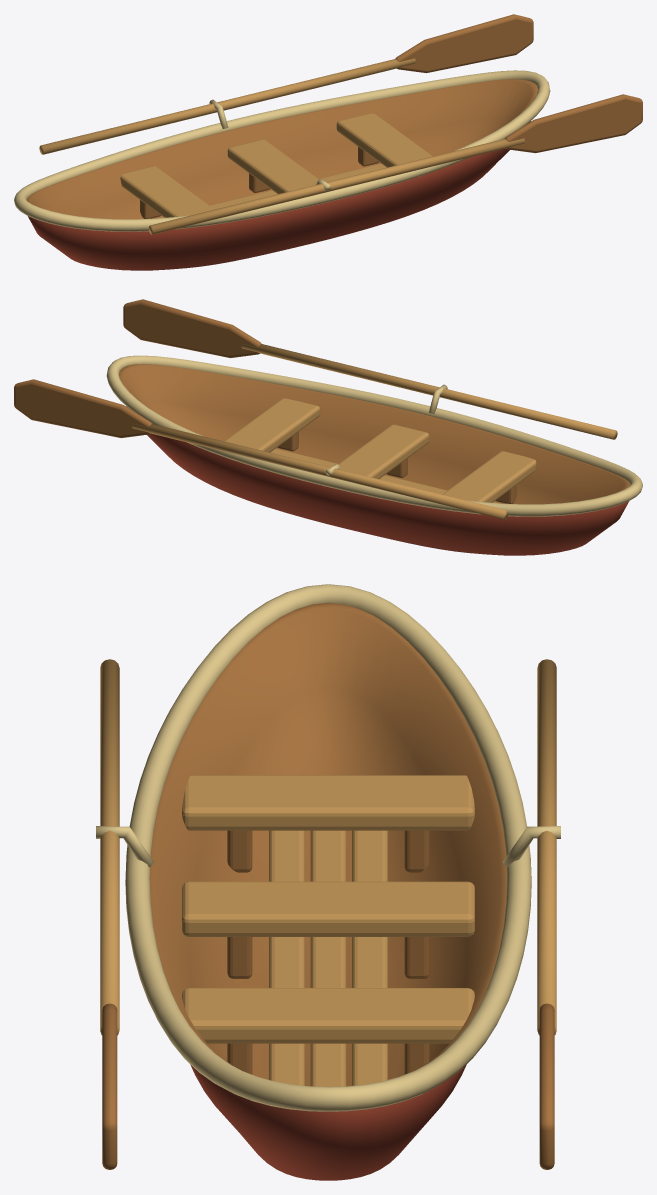
Rendered from coastal_rowboat.glb.
The picture shows the model from 3 angles, top to bottom: view 1: azimuth 30°, elevation 25°; view 2: azimuth 150°, elevation 25°; view 3: azimuth 270°, elevation 25°; orthographic projection. The views are drawn at different scales.
Parts seen in each view (by area): view 1: HollowHull, Gunwale, Blade_Near, Blade_Far, Shaft_Near, Shaft_Far, Bench_2, Bench_1, Bench_0, FloorSlat_2; view 2: HollowHull, Gunwale, Blade_Far, Blade_Near, Shaft_Far, Shaft_Near, Bench_2, Bench_1, Bench_0, FloorSlat_0; view 3: HollowHull, Gunwale, Bench_1, Bench_0, Bench_2, Shaft_Far, Shaft_Near, FloorSlat_1, FloorSlat_0, FloorSlat_2, Blade_Far, Blade_Near (+4 smaller).
Part boxes in pixels (left/top/right/bottom): HollowHull: left=26, top=79, right=537, bottom=270; Gunwale: left=14, top=70, right=550, bottom=231; Blade_Near: left=504, top=94, right=642, bottom=153; Blade_Far: left=395, top=14, right=533, bottom=73; Shaft_Near: left=148, top=138, right=524, bottom=234; Shaft_Far: left=39, top=58, right=415, bottom=154; Bench_2: left=336, top=113, right=432, bottom=167; Bench_1: left=227, top=139, right=318, bottom=193; Bench_0: left=120, top=166, right=214, bottom=217; FloorSlat_2: left=158, top=163, right=386, bottom=218; HollowHull: left=119, top=364, right=630, bottom=555; Gunwale: left=106, top=355, right=642, bottom=516; Blade_Far: left=14, top=379, right=152, bottom=438; Blade_Near: left=123, top=299, right=261, bottom=358; Shaft_Far: left=132, top=423, right=508, bottom=519; Shaft_Near: left=241, top=343, right=617, bottom=439; Bench_2: left=224, top=398, right=320, bottom=452; Bench_1: left=338, top=424, right=429, bottom=478; Bench_0: left=442, top=451, right=536, bottom=502; FloorSlat_0: left=270, top=448, right=498, bottom=503; HollowHull: left=149, top=603, right=506, bottom=1180; Gunwale: left=125, top=584, right=531, bottom=1111; Bench_1: left=182, top=881, right=474, bottom=936; Bench_0: left=182, top=775, right=474, bottom=830; Bench_2: left=182, top=988, right=474, bottom=1043; Shaft_Far: left=537, top=659, right=556, bottom=1035; Shaft_Near: left=100, top=659, right=119, bottom=1035; FloorSlat_1: left=310, top=830, right=346, bottom=1086; FloorSlat_0: left=269, top=830, right=304, bottom=1085; FloorSlat_2: left=352, top=830, right=387, bottom=1085; Blade_Far: left=539, top=1003, right=554, bottom=1169; Blade_Near: left=102, top=1003, right=117, bottom=1169.
Bounding box in the file's own units: 4.74 × 0.9 × 1.68.
